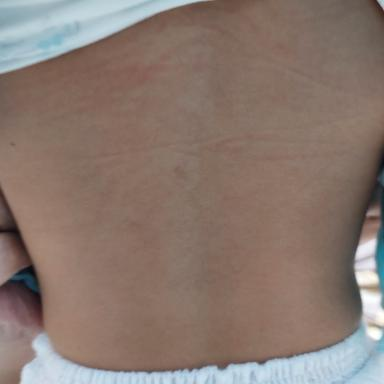normal skin: (2, 0, 383, 372)
